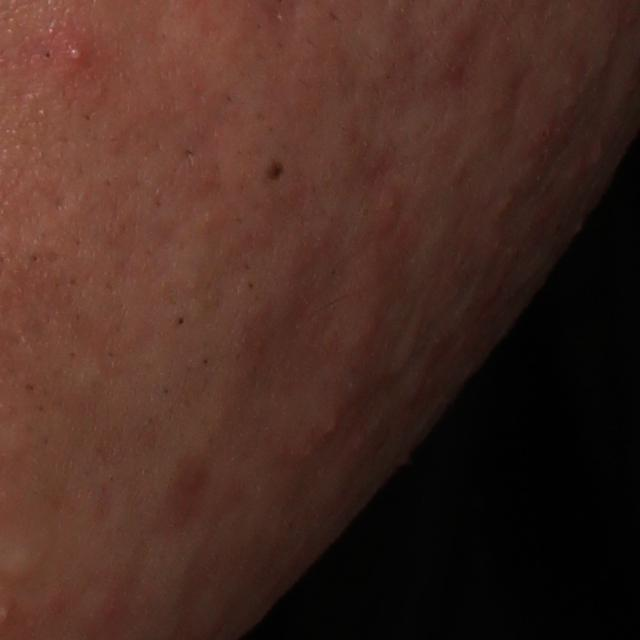nevus: (261, 152, 288, 198)
papule: (374, 184, 410, 245), (317, 405, 350, 443)
